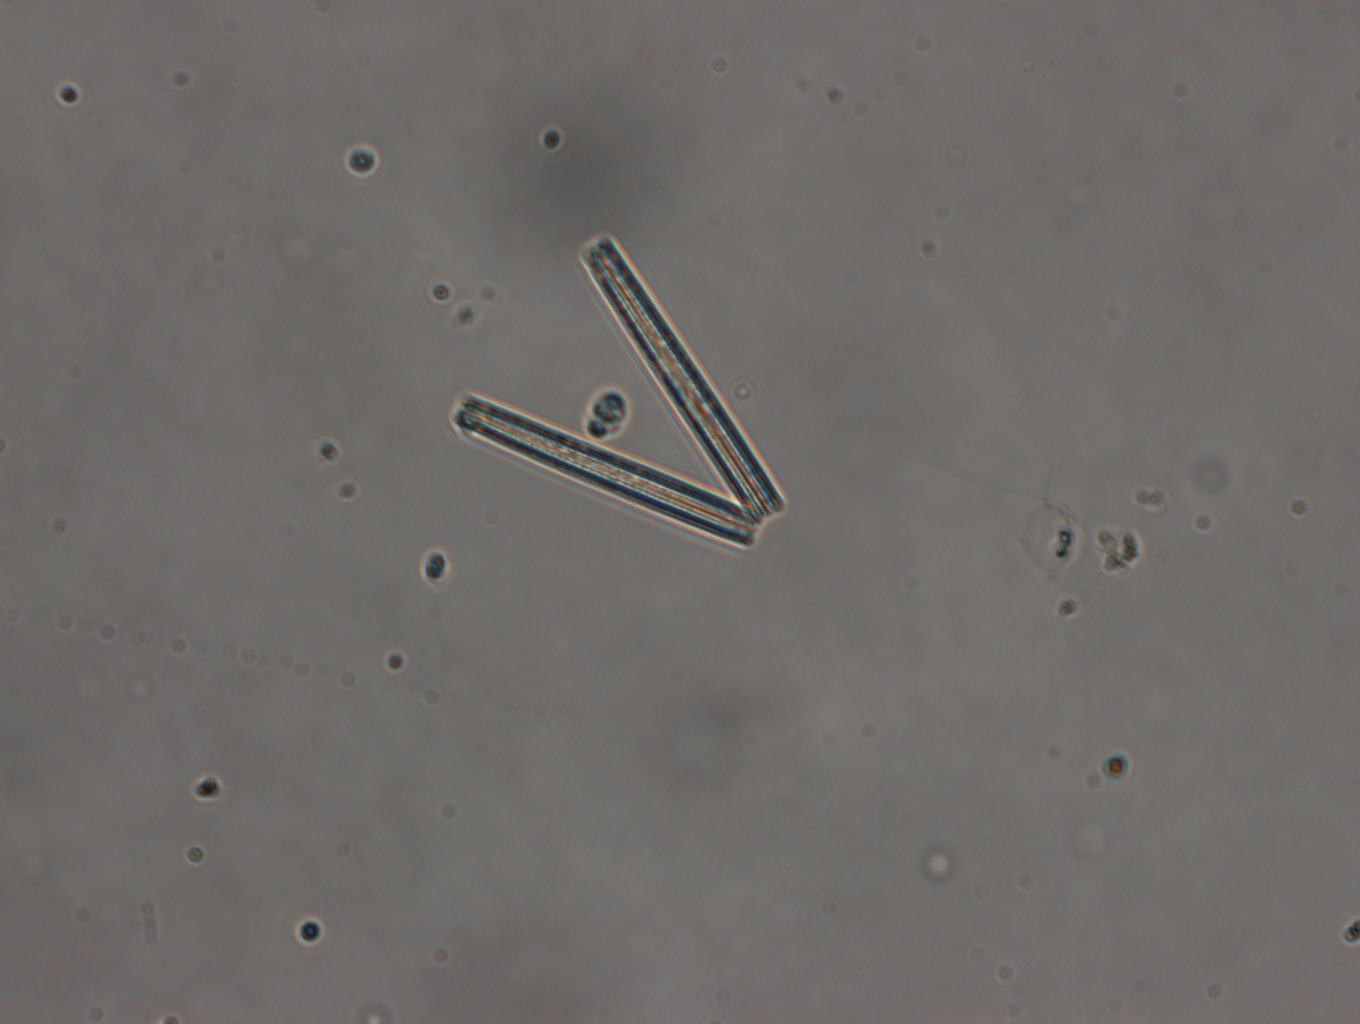thalassionema nitzschioides: (450, 232, 791, 549)
